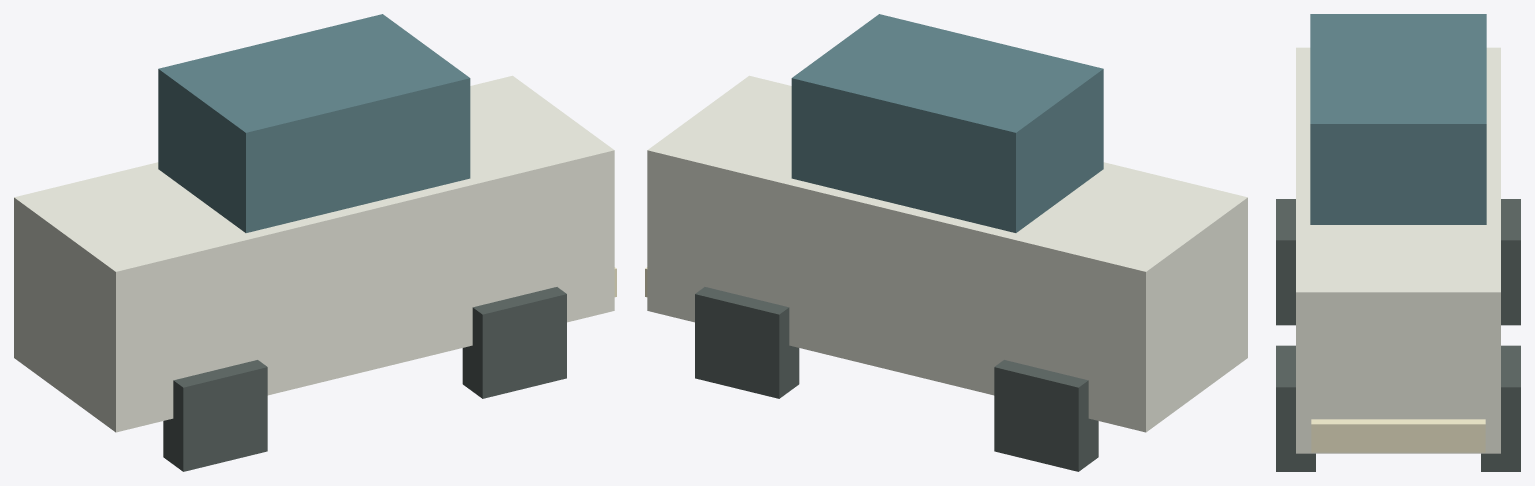
File: van.gltf
3 views of the same model, side by side, from view 1: azimuth 30°, elevation 25°; view 2: azimuth 150°, elevation 25°; view 3: azimuth 270°, elevation 25° (orthographic).
Bounding box in the file's own units: 6.63 × 3.83 × 2.75.
